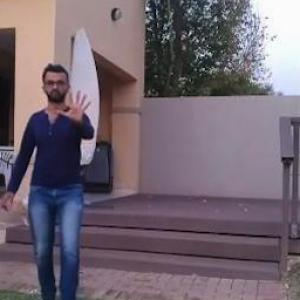follow_hand: (53, 84, 96, 132)
